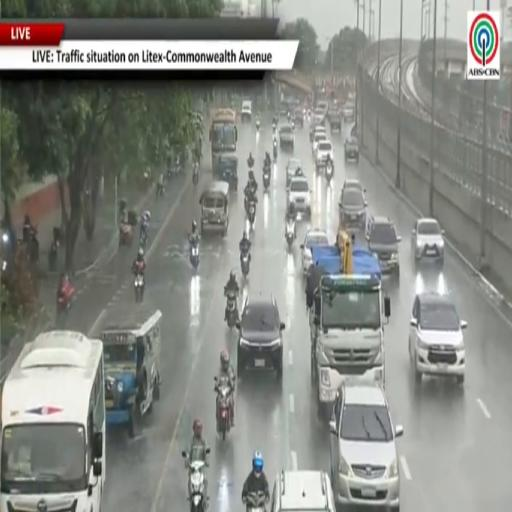bus: (0, 331, 106, 511)
car: (330, 382, 403, 511), (409, 292, 467, 383), (237, 295, 284, 378), (270, 471, 335, 511), (366, 216, 401, 277), (411, 218, 444, 265), (301, 229, 329, 274), (339, 188, 367, 230), (287, 176, 311, 217), (315, 140, 333, 169), (286, 158, 302, 186), (344, 136, 360, 163), (279, 124, 294, 150), (312, 132, 327, 155), (342, 179, 365, 194), (310, 123, 326, 142), (330, 109, 341, 134), (241, 101, 252, 122), (343, 103, 355, 122), (313, 108, 326, 124), (316, 101, 328, 116), (294, 108, 303, 127), (279, 102, 289, 118)
jeepney: (101, 304, 161, 437), (200, 182, 229, 234)
motorcycle: (215, 377, 232, 440), (188, 460, 206, 511), (56, 283, 74, 329), (48, 227, 60, 271), (245, 491, 267, 511), (226, 292, 238, 328), (134, 274, 145, 303), (285, 219, 295, 248), (120, 223, 133, 245), (240, 251, 250, 278), (190, 242, 199, 269), (139, 226, 148, 250), (248, 201, 255, 226), (325, 163, 333, 184), (263, 168, 270, 191), (156, 183, 164, 199), (193, 166, 199, 186), (273, 140, 277, 163), (256, 120, 260, 132), (273, 123, 276, 137), (287, 111, 290, 122), (292, 120, 294, 130)
truck: (310, 235, 390, 418), (210, 108, 238, 179)
